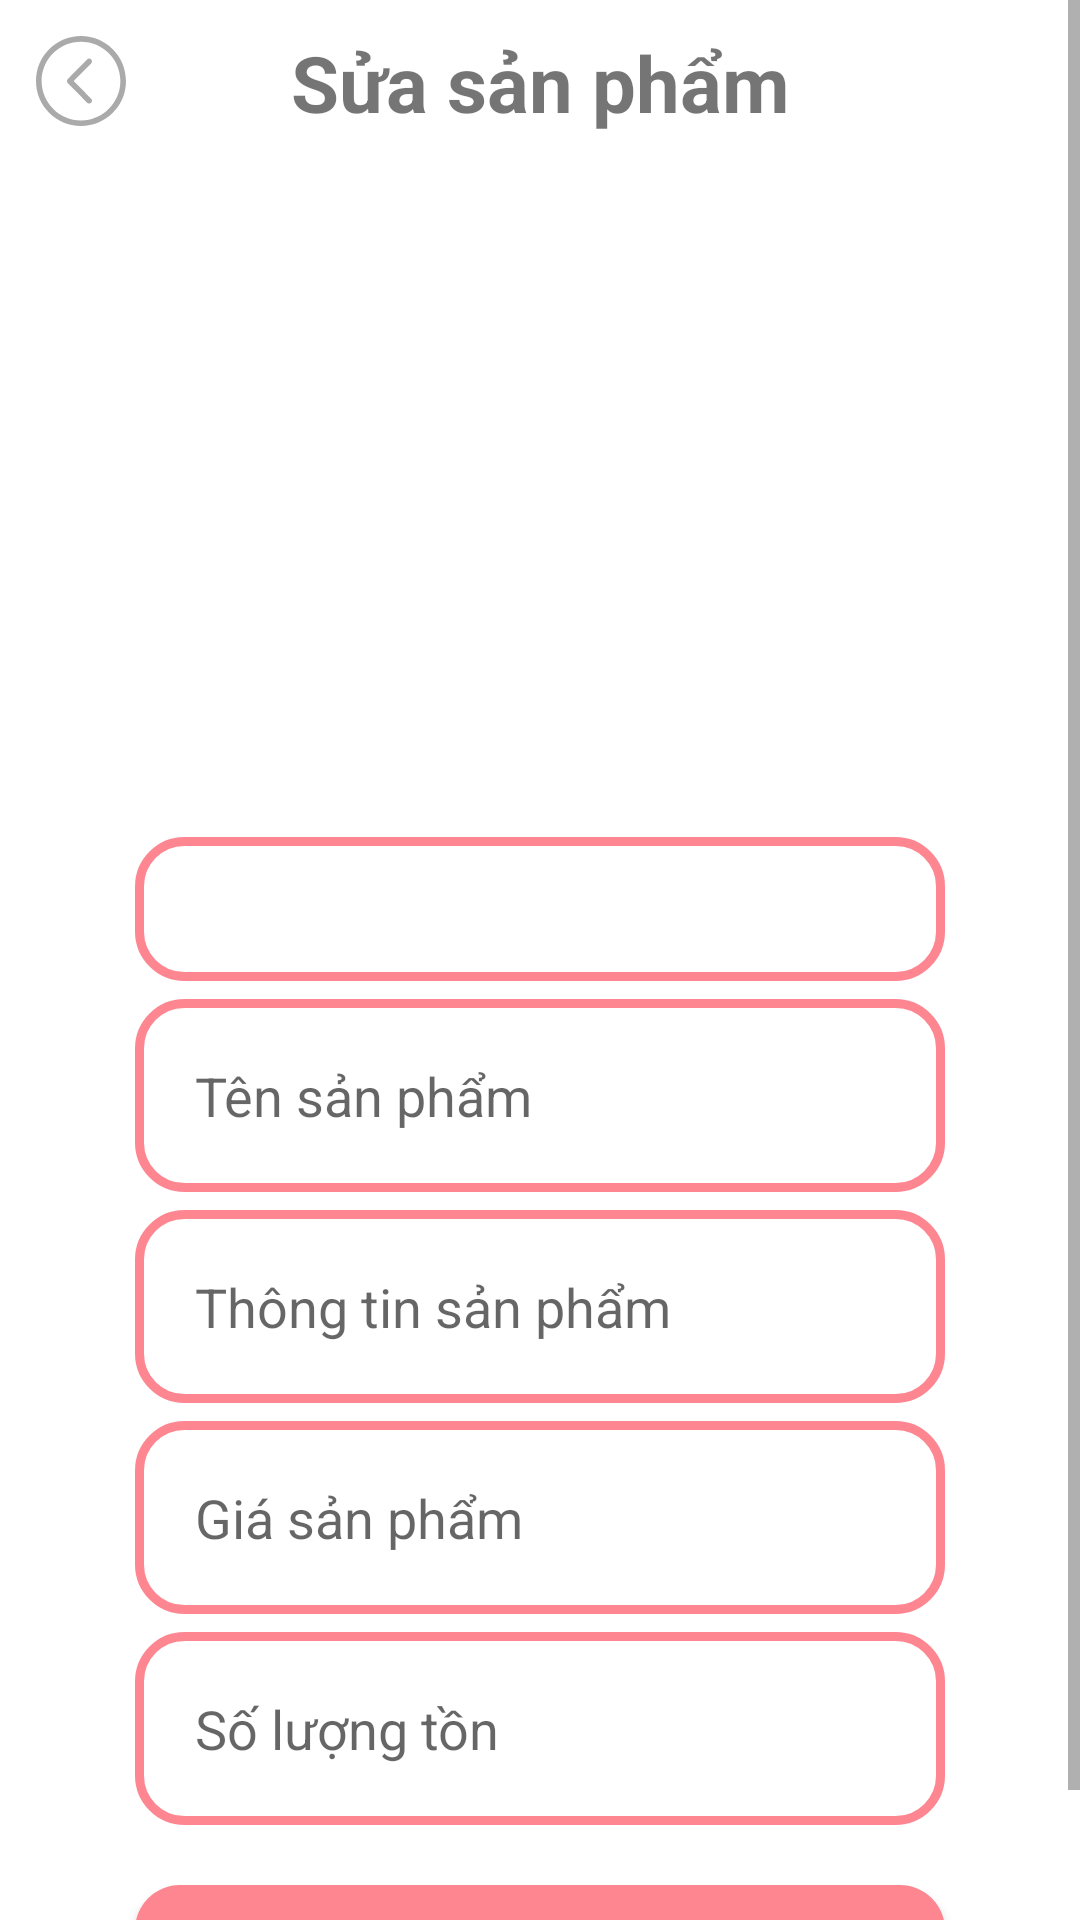

Named icons in this screenshot (1080px x 1920px) and their centers, point (x, y):
back: point (81, 81)
